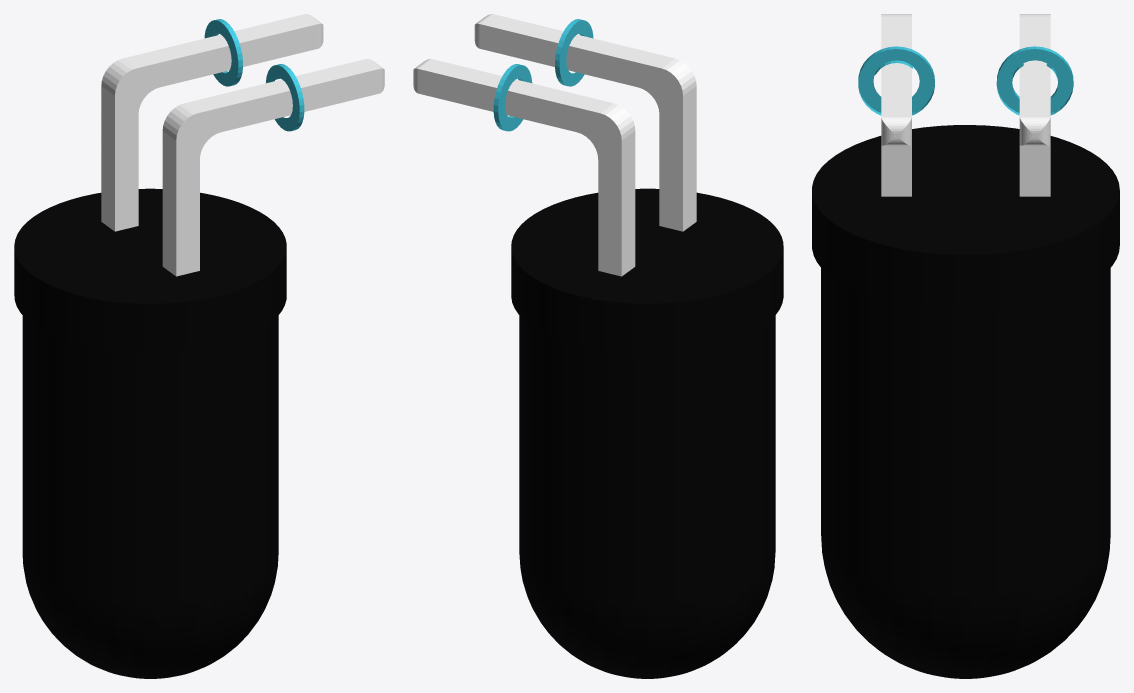
Rendered from sensor.fbx.
3 renders of one model, left to right at view 1: azimuth 30°, elevation 25°; view 2: azimuth 150°, elevation 25°; view 3: azimuth 270°, elevation 25°, orthographic. The views are drawn at different scales.
Visible parts, largest first — view 1: ImageToStl.com_resistor025w-1k0.006; view 2: ImageToStl.com_resistor025w-1k0.006; view 3: ImageToStl.com_resistor025w-1k0.006.
Boxes of the visible parts, left/top/right/bottom form: ImageToStl.com_resistor025w-1k0.006: left=14, top=14, right=384, bottom=678; ImageToStl.com_resistor025w-1k0.006: left=413, top=14, right=783, bottom=678; ImageToStl.com_resistor025w-1k0.006: left=812, top=14, right=1119, bottom=678.
Size of the model in its own units: 30.37 by 54.34 by 22.49.
